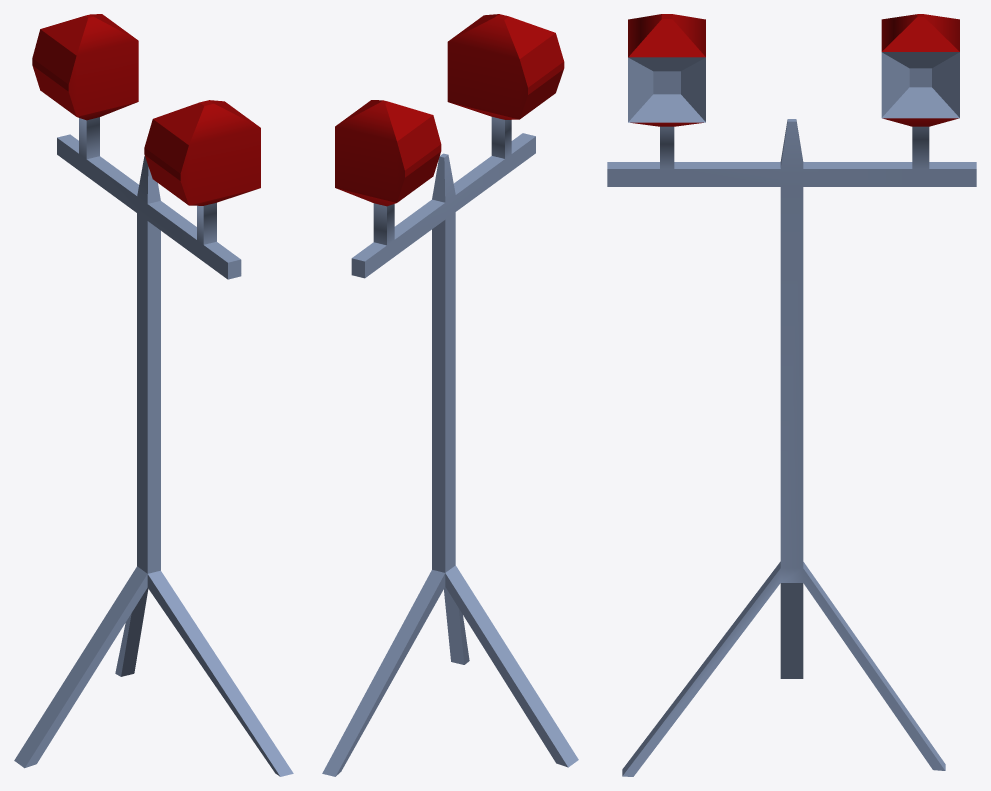
The model's file is FloodLight.fbx.
The picture shows the model from 3 angles, left to right: view 1: azimuth 30°, elevation 25°; view 2: azimuth 150°, elevation 25°; view 3: azimuth 270°, elevation 25°; orthographic projection. The views are drawn at different scales.
Parts seen in each view (by area): view 1: pCube2; view 2: pCube2; view 3: pCube2.
Part boxes in pixels (x1,y1,x2,y2): pCube2: (14,14,293,776); pCube2: (322,14,578,776); pCube2: (607,14,976,776).
Size of the model in its own units: 0.6555 by 2.16 by 0.9911.
